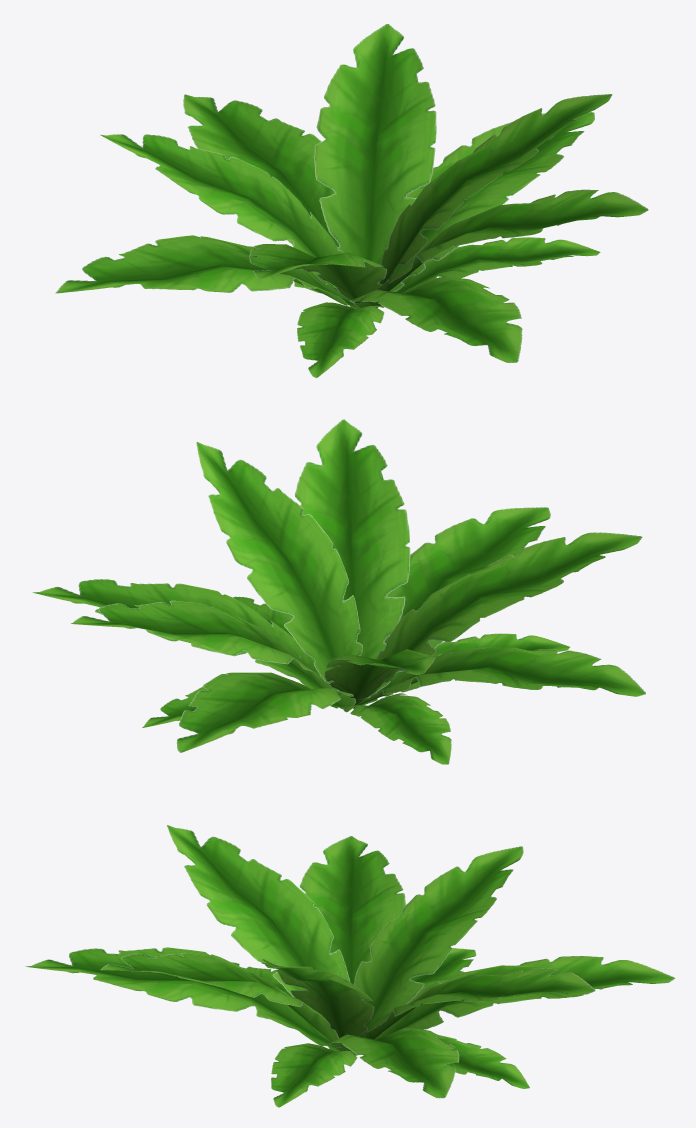
The model's file is Plant1.fbx.
3 renders of one model, top to bottom at view 1: azimuth 30°, elevation 25°; view 2: azimuth 150°, elevation 25°; view 3: azimuth 270°, elevation 25°, orthographic. The views are drawn at different scales.
Visible parts, largest first — view 1: Plane.009; view 2: Plane.009; view 3: Plane.009.
Boxes of the visible parts, x1,y1,x2,y2 form: Plane.009: [55, 24, 648, 378]; Plane.009: [32, 419, 645, 764]; Plane.009: [25, 825, 675, 1107].
Bounding box in the file's own units: 7.66 × 7.88 × 2.49.
